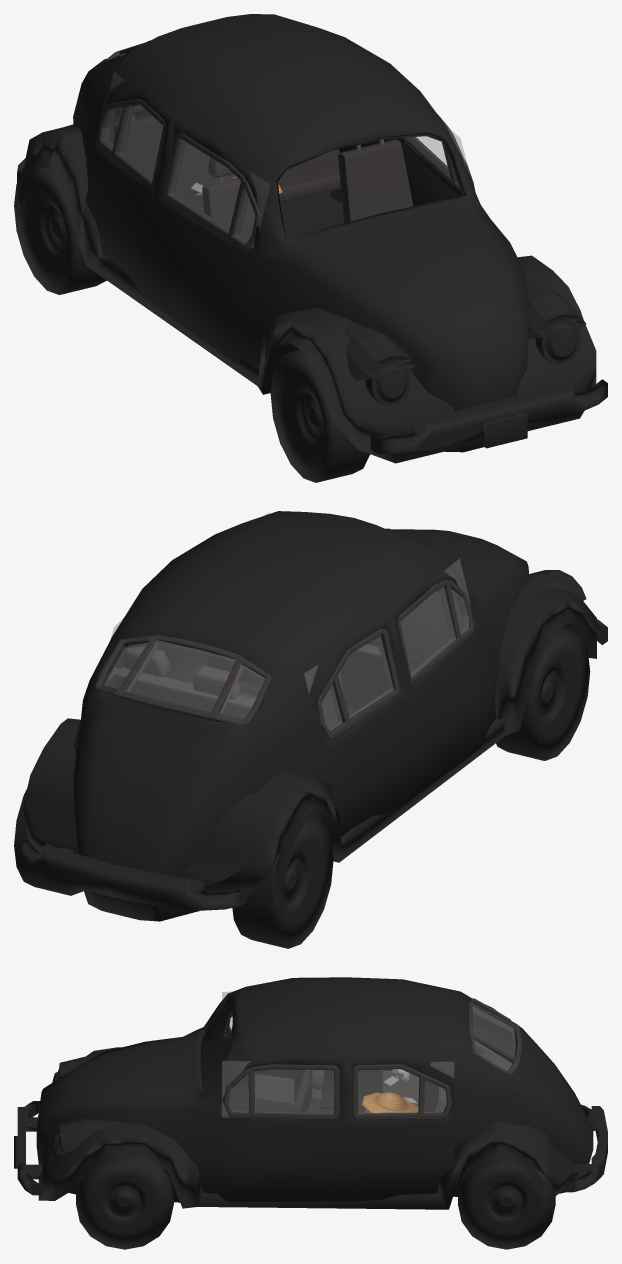
Rendered from Ending_CarScene.fbx.
3 views of the same model, one above another, from view 1: azimuth 30°, elevation 25°; view 2: azimuth 150°, elevation 25°; view 3: azimuth 270°, elevation 25° (orthographic). The views are drawn at different scales.
Parts seen in each view (by area): view 1: Car:pCube1, Car:pCube4, Car:pCylinder3, Car:pCylinder1, Car:pCylinder2, Car:pCube5, Window1, Seat4, pCube3, Seat1, Window, pCube2 (+3 smaller); view 2: Car:pCube1, Car:pCube4, Car:pCylinder2, Window2, Car:pCylinder1, Car:pCube8, pCube4, Window1, Window, pCube2, pCube3, Seat1 (+5 smaller); view 3: Car:pCube1, Car:pCube4, Car:pCylinder1, Car:pCylinder2, Window1, Window, pCube3, pCube2, pCube4, Car:pCube8, Car:pCylinder3, Window2 (+7 smaller).
Part boxes in pixels (x1,y1,x2,y2): Car:pCube1: [73, 14, 528, 452]; Car:pCube4: [19, 111, 596, 463]; Car:pCylinder3: [344, 278, 586, 406]; Car:pCylinder1: [270, 350, 369, 482]; Car:pCylinder2: [14, 167, 106, 294]; Car:pCube5: [370, 379, 607, 453]; Window1: [170, 122, 470, 247]; Seat4: [338, 139, 413, 222]; pCube3: [164, 114, 475, 251]; Seat1: [113, 115, 339, 195]; Window: [105, 72, 162, 180]; pCube2: [97, 98, 165, 188]; Car:pCube1: [73, 511, 528, 921]; Car:pCube4: [23, 587, 596, 896]; Car:pCylinder2: [14, 789, 333, 948]; Window2: [104, 640, 264, 718]; Car:pCylinder1: [496, 628, 590, 760]; Car:pCube8: [21, 835, 247, 910]; pCube4: [95, 635, 271, 725]; Window1: [264, 512, 470, 676]; Window: [111, 618, 393, 730]; pCube2: [106, 628, 399, 739]; pCube3: [398, 580, 474, 682]; Seat1: [115, 667, 255, 718]; Car:pCube1: [36, 977, 593, 1202]; Car:pCube4: [38, 1047, 575, 1209]; Car:pCylinder1: [76, 1153, 173, 1249]; Car:pCylinder2: [458, 1155, 555, 1249]; Window1: [222, 991, 333, 1117]; Window: [358, 1062, 453, 1113]; pCube3: [224, 1011, 339, 1119]; pCube2: [352, 1064, 451, 1119]; pCube4: [468, 998, 522, 1076]; Car:pCube8: [564, 1104, 607, 1192]; Car:pCylinder3: [50, 1056, 115, 1163]; Window2: [472, 1006, 515, 1070].
Bounding box in the file's own units: 11.05 × 10.96 × 28.32.
